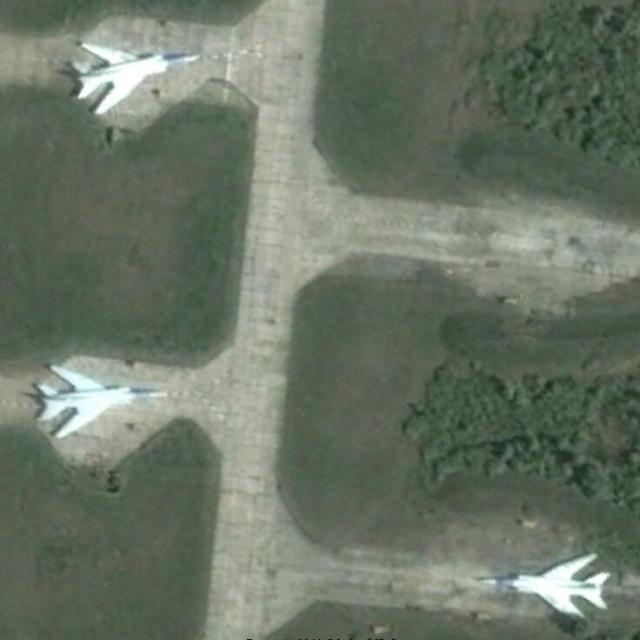fighter jet: (31, 352, 168, 438), (478, 542, 624, 618), (63, 38, 199, 112)
